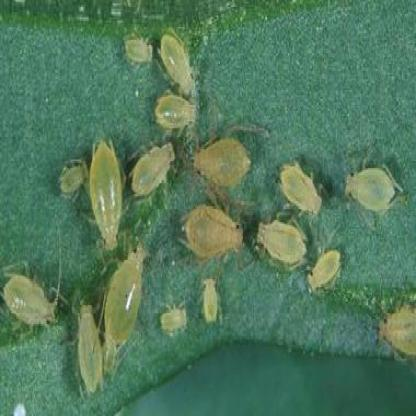aphid: (101, 239, 150, 369), (0, 252, 61, 348), (83, 129, 126, 253), (185, 127, 254, 199), (174, 201, 246, 265), (342, 152, 404, 226), (252, 200, 312, 274), (67, 281, 102, 402), (126, 134, 178, 201), (369, 296, 416, 365), (276, 155, 325, 218), (159, 18, 196, 100), (302, 242, 347, 302), (147, 90, 206, 131), (156, 289, 192, 350), (116, 16, 152, 72), (197, 262, 223, 330), (60, 142, 87, 206)
